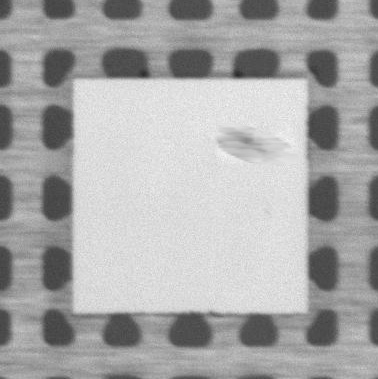DIE_INK: (212, 119, 300, 167)
